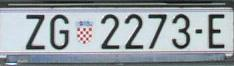-: (194, 28, 203, 35)
2: (124, 14, 145, 49), (100, 14, 120, 49)
3: (171, 13, 191, 49)
7: (147, 13, 168, 49)
E: (207, 14, 227, 50)
G: (49, 14, 69, 49)
Z: (25, 14, 46, 50)
